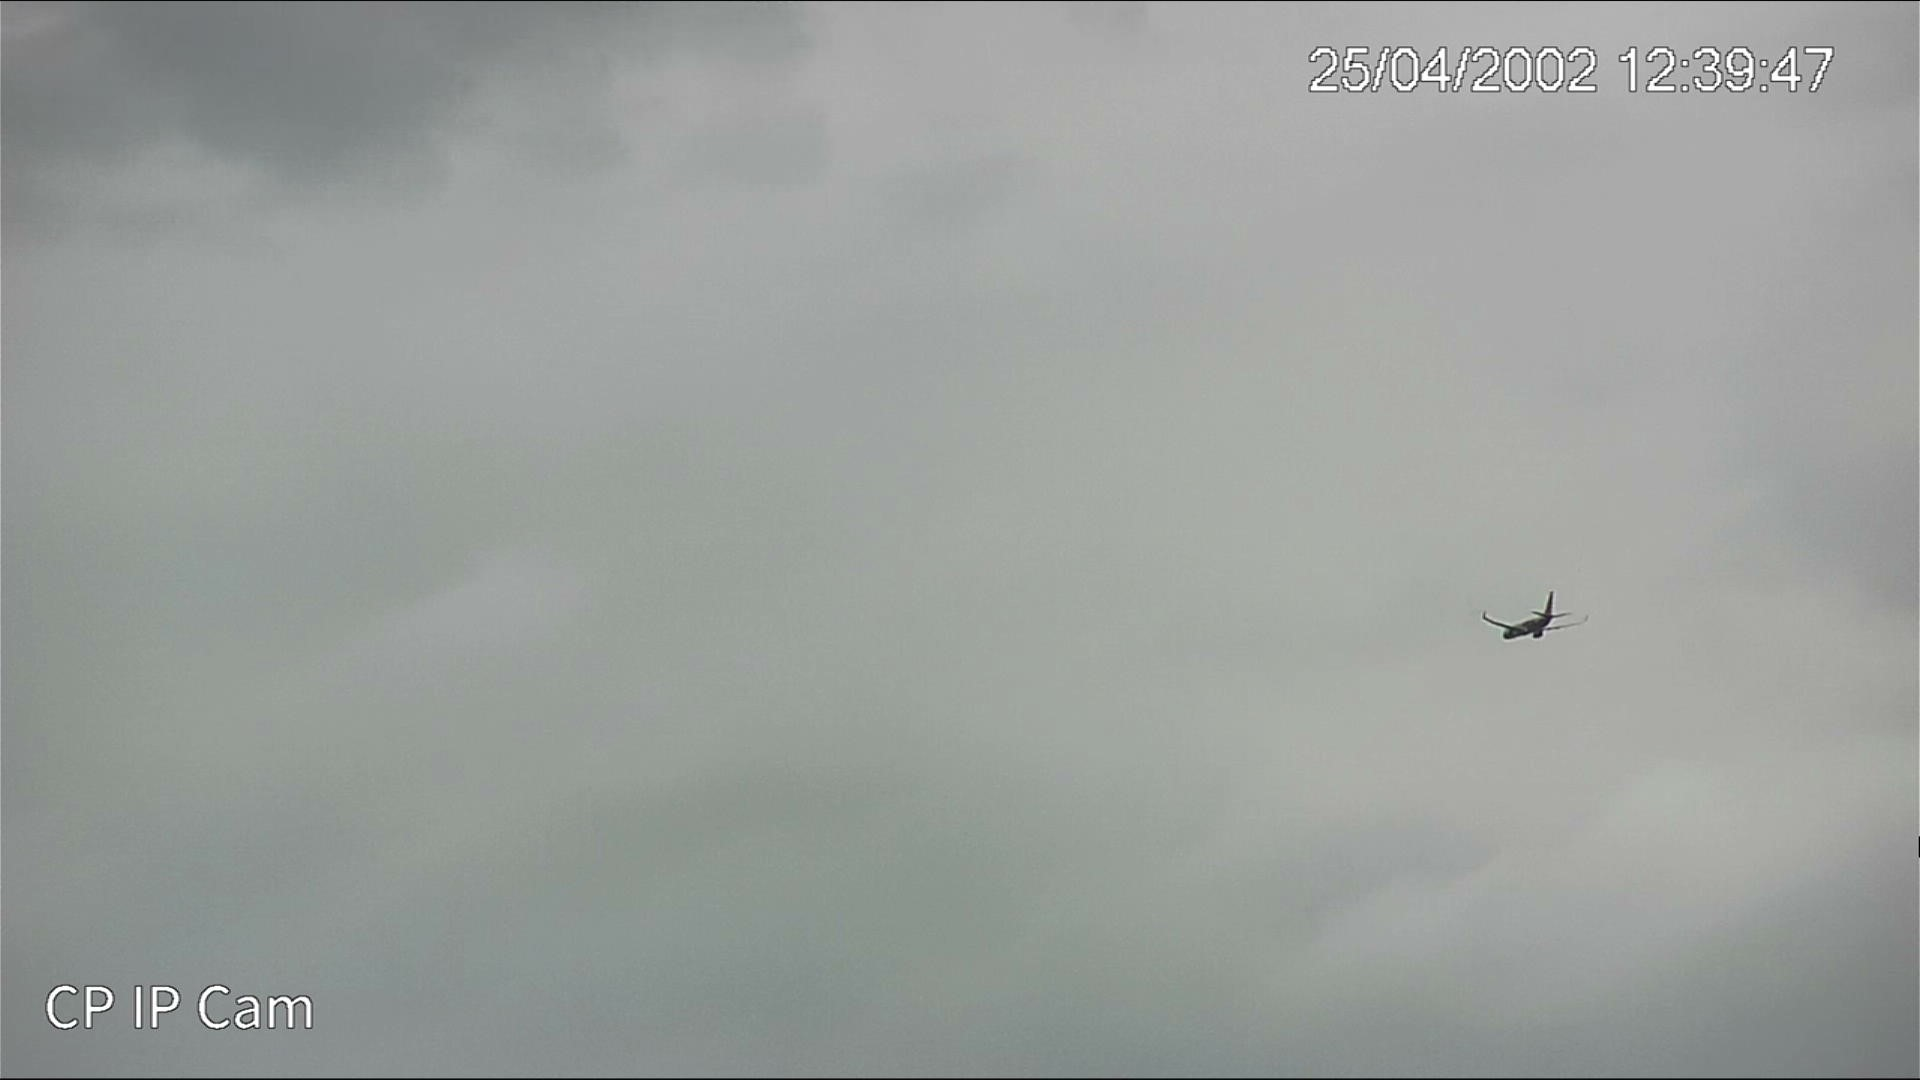SU_30: (1482, 588, 1590, 646)
